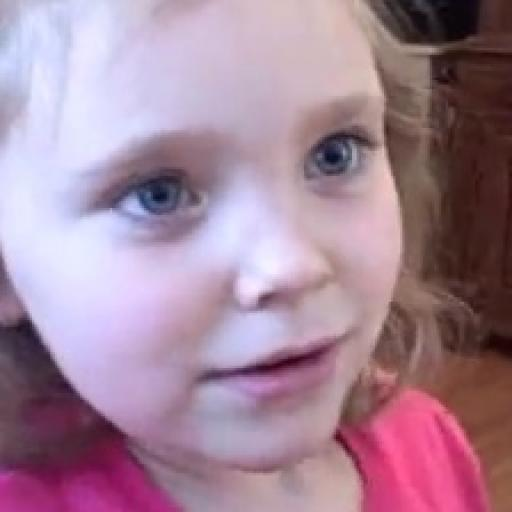Autism: (0, 2, 446, 512)
